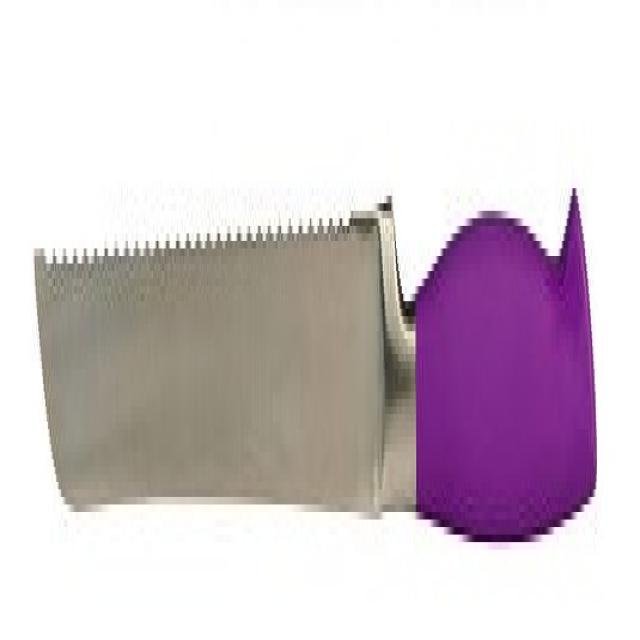knife: (30, 155, 604, 579)
